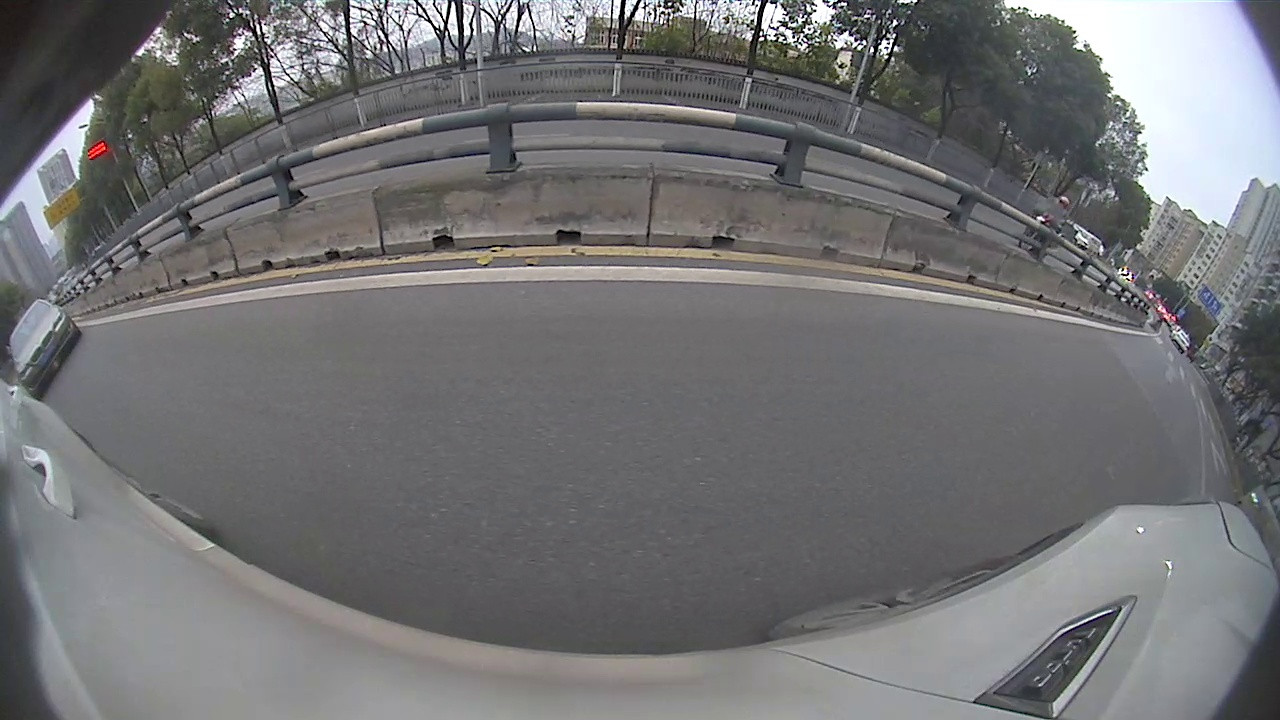car: (0, 300, 84, 402)
